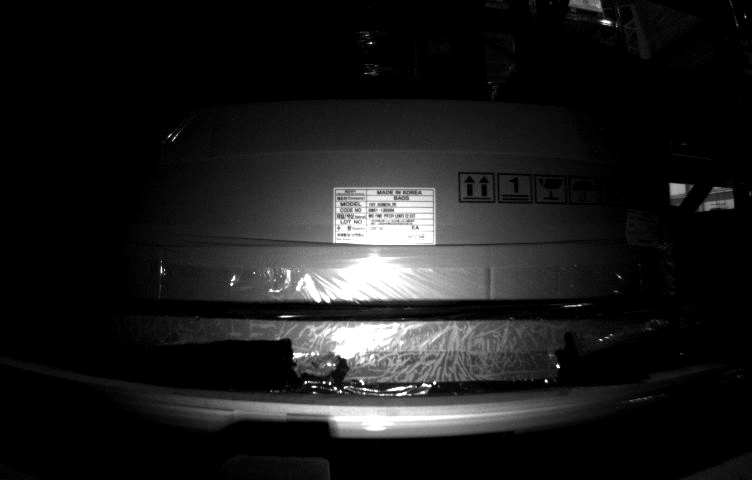True Barcode: (626, 203, 671, 252)
